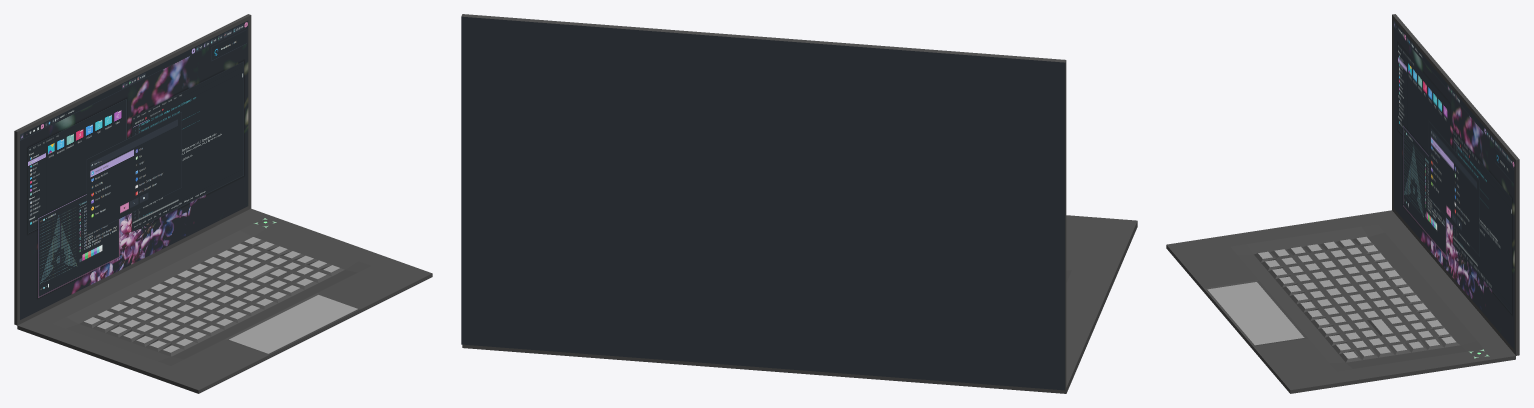
Rendered from laptop.glb.
3 renders of one model, left to right at view 1: azimuth 30°, elevation 25°; view 2: azimuth 150°, elevation 25°; view 3: azimuth 270°, elevation 25°, orthographic. The views are drawn at different scales.
Visible parts, largest first — view 1: Plane; view 2: Plane; view 3: Plane.
Boxes of the visible parts, <box> form: Plane: <box>14,14,432,393</box>; Plane: <box>461,14,1137,393</box>; Plane: <box>1166,14,1519,393</box>.
Size of the model in its own units: 2.73 by 1.4 by 2.26.
5 materials, 1 textured.
